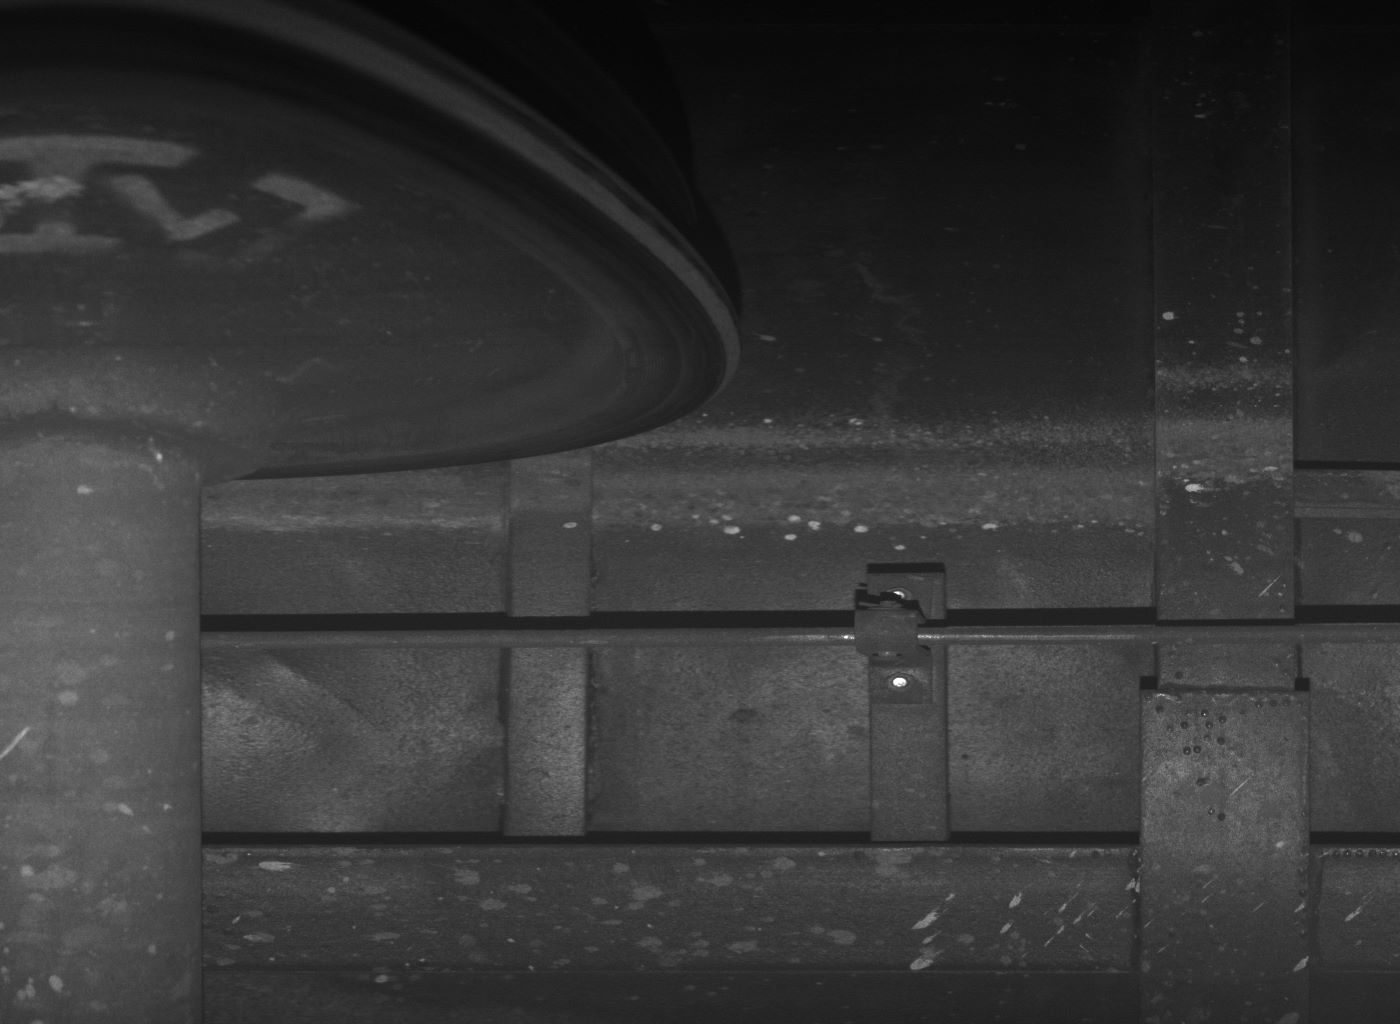normal: (857, 601, 935, 707)
